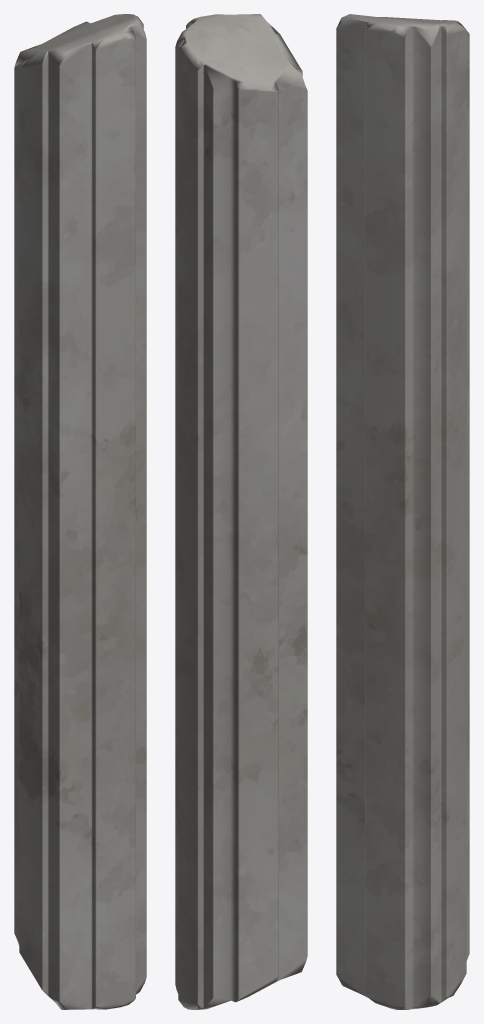
File: SM_Pillar_03.fbx
3 views of the same model, side by side, from view 1: azimuth 30°, elevation 25°; view 2: azimuth 210°, elevation 25°; view 3: azimuth 330°, elevation 25° (orthographic).
Visible parts, largest first — view 1: SM_Pillar_03_LOD0; view 2: SM_Pillar_03_LOD0; view 3: SM_Pillar_03_LOD0.
Boxes of the visible parts, x1=… form: SM_Pillar_03_LOD0: x1=14, y1=14, x2=146, y2=1009; SM_Pillar_03_LOD0: x1=175, y1=14, x2=307, y2=1009; SM_Pillar_03_LOD0: x1=336, y1=14, x2=469, y2=1009.
Size of the model in its own units: 92.14 by 81.83 by 826.
1 material, 1 textured.
